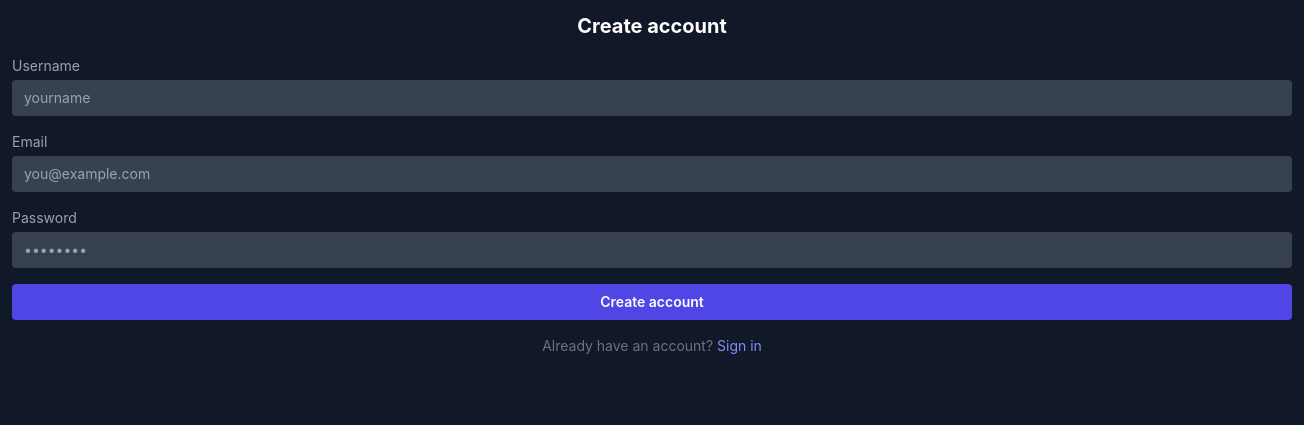
Test case: RegisterForm › validates username length
The width and height of the screenshot is (1304, 425).
Type "ab" into the field with test id "username-input".
click(652, 98); type("ab")  # box [12,80,1292,116]
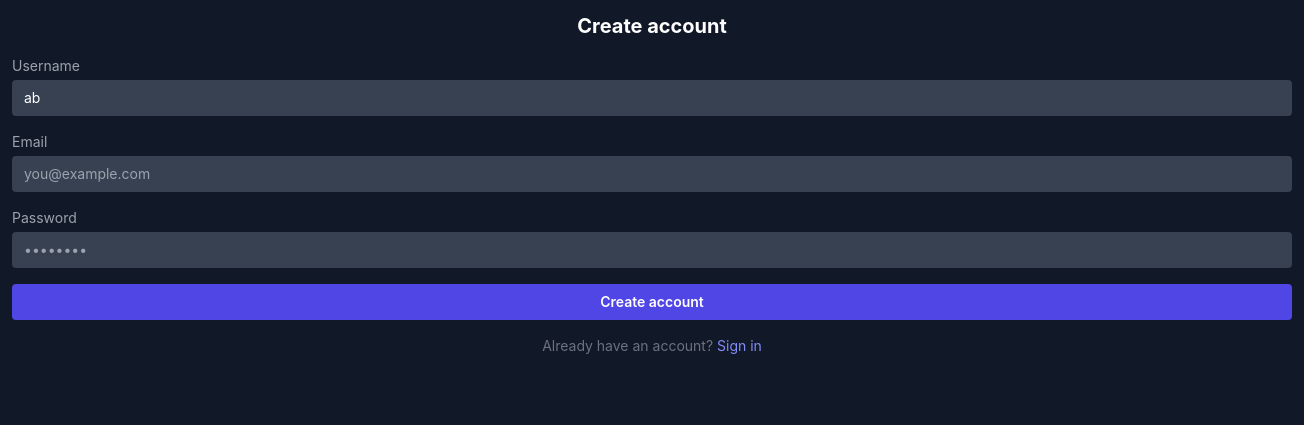
Type "test@test.com" into the field with test id "email-input".
click(652, 174); type("test@test.com")  # box [12,156,1292,192]
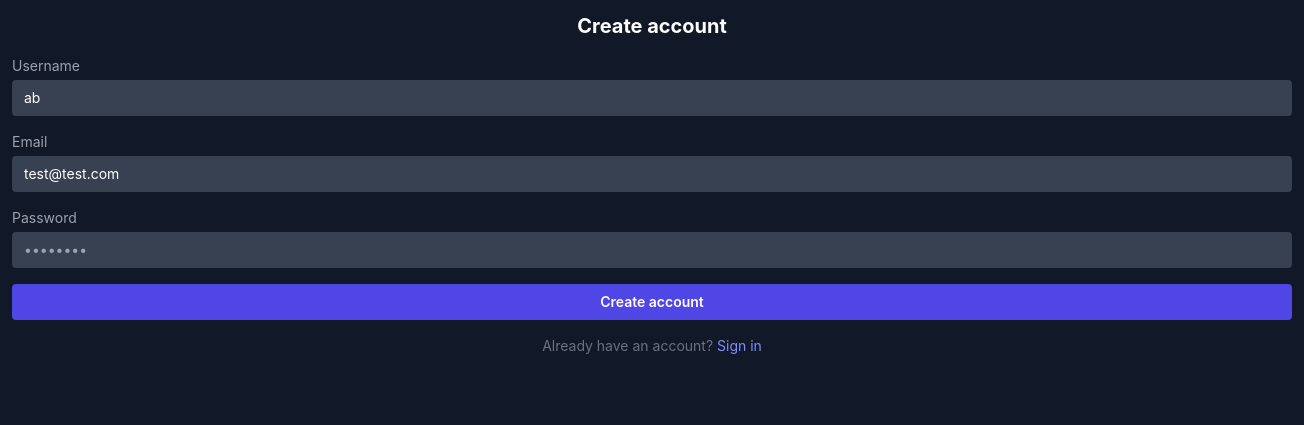
Type "password123" into the password field with test id "password-input".
click(652, 250); type("password123")  # box [12,232,1292,268]
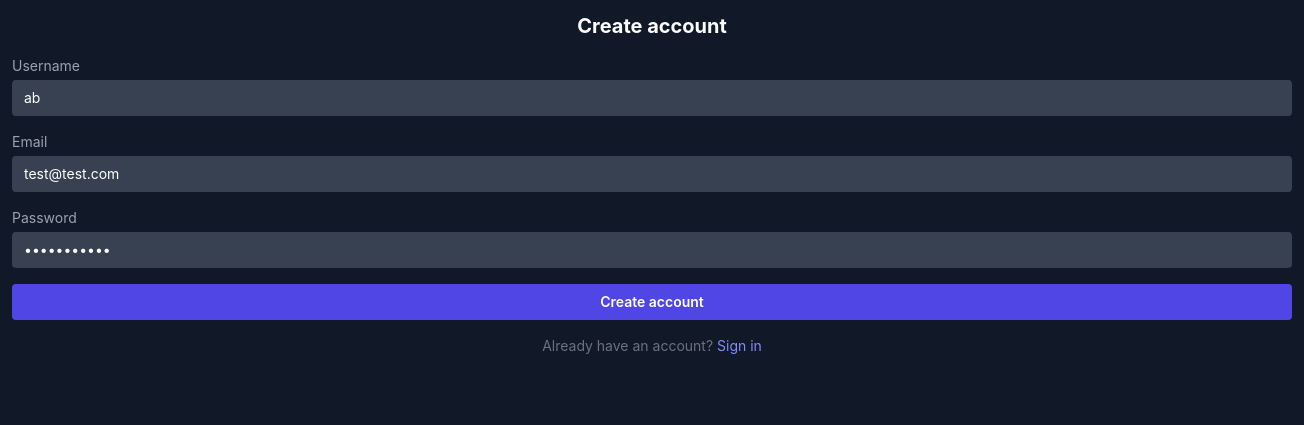
Click the button with test id "submit-btn".
click(652, 302)  # box [12,284,1292,320]
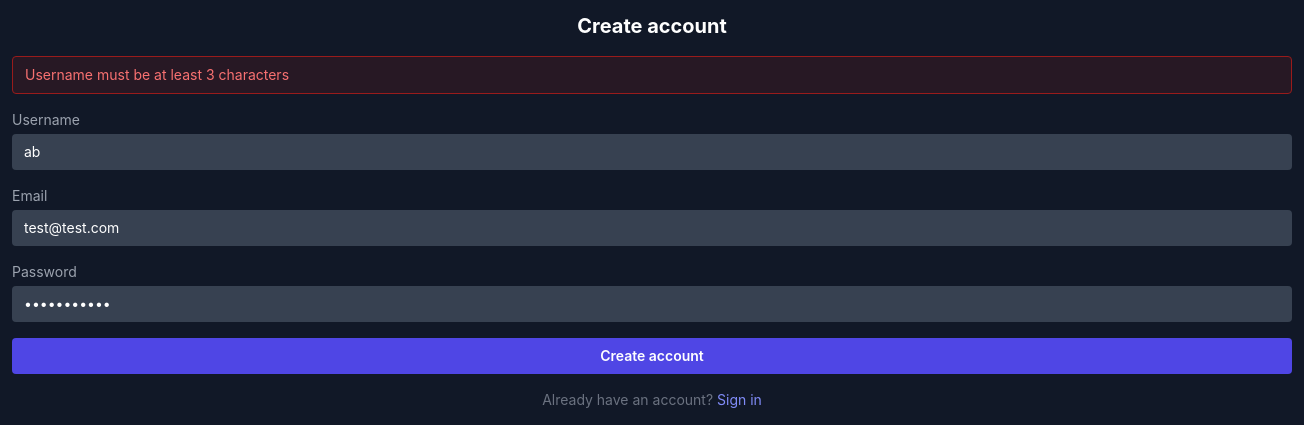
Expected: the message shows "at least 3 characters", [25,66,289,83]
